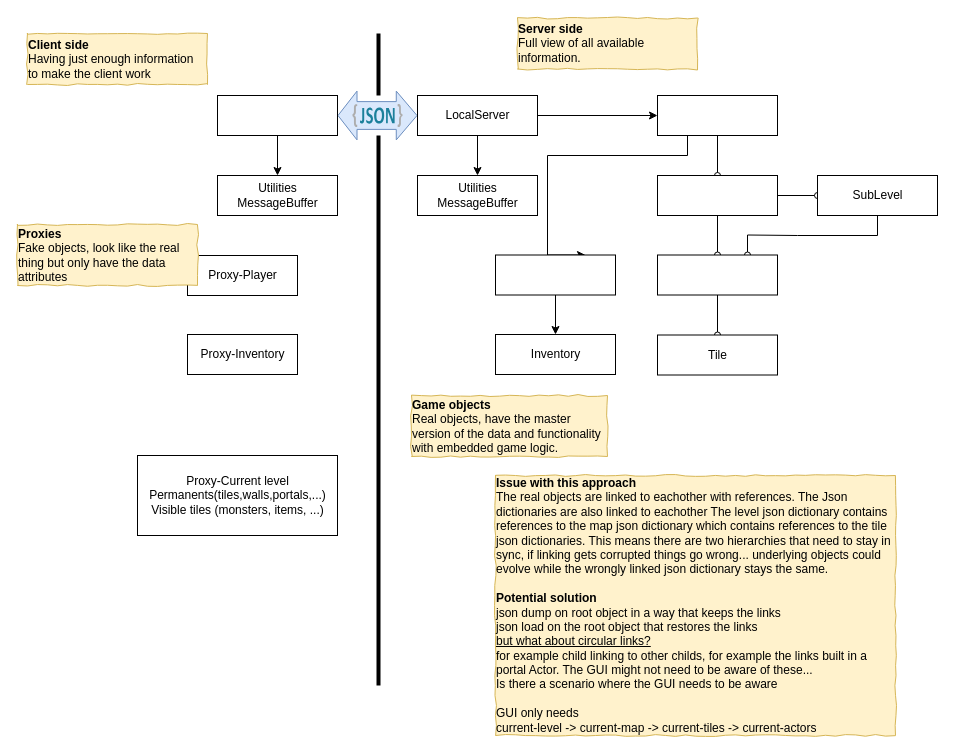
Some shapes in this 955 by 753 pixel diagram are drawn without their labels. Here are the shapes that lost their labels. From the top down, the centre of each, then its label:
the point at 277,115: RemoteServer
the point at 717,115: Game
the point at 717,195: Level
the point at 555,274: Player
the point at 717,274: Map
